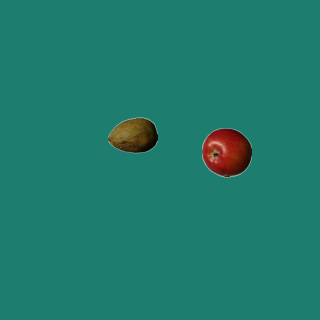Apple Braeburn: (201, 127, 251, 177)
Papaya: (107, 110, 157, 160)
